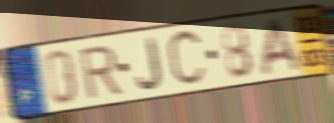0: (44, 47, 79, 108)
8: (220, 23, 255, 81)
A: (259, 15, 305, 79)
C: (165, 25, 209, 92)
J: (134, 36, 164, 92)
R: (77, 43, 125, 102)
